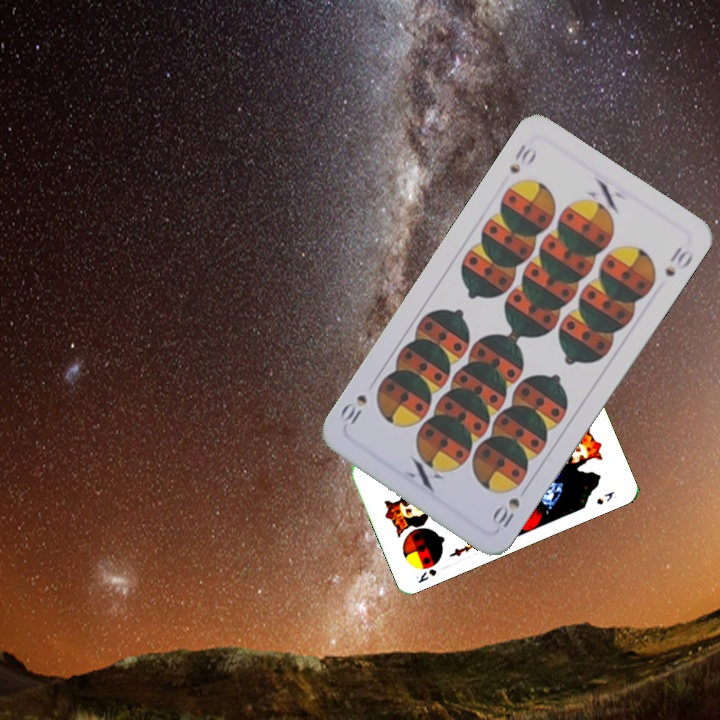S10: (505, 139, 540, 176), (490, 493, 523, 531)
SK: (412, 565, 439, 586)
